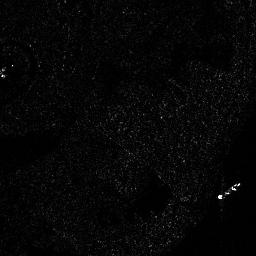ship: (217, 180, 241, 200)
